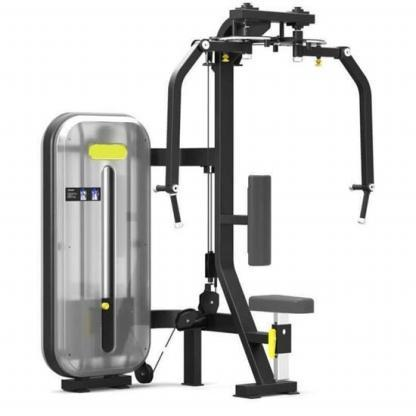chest fly machine: (40, 4, 380, 408)
